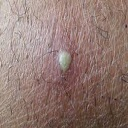Carbuncle: (55, 50, 76, 76)
